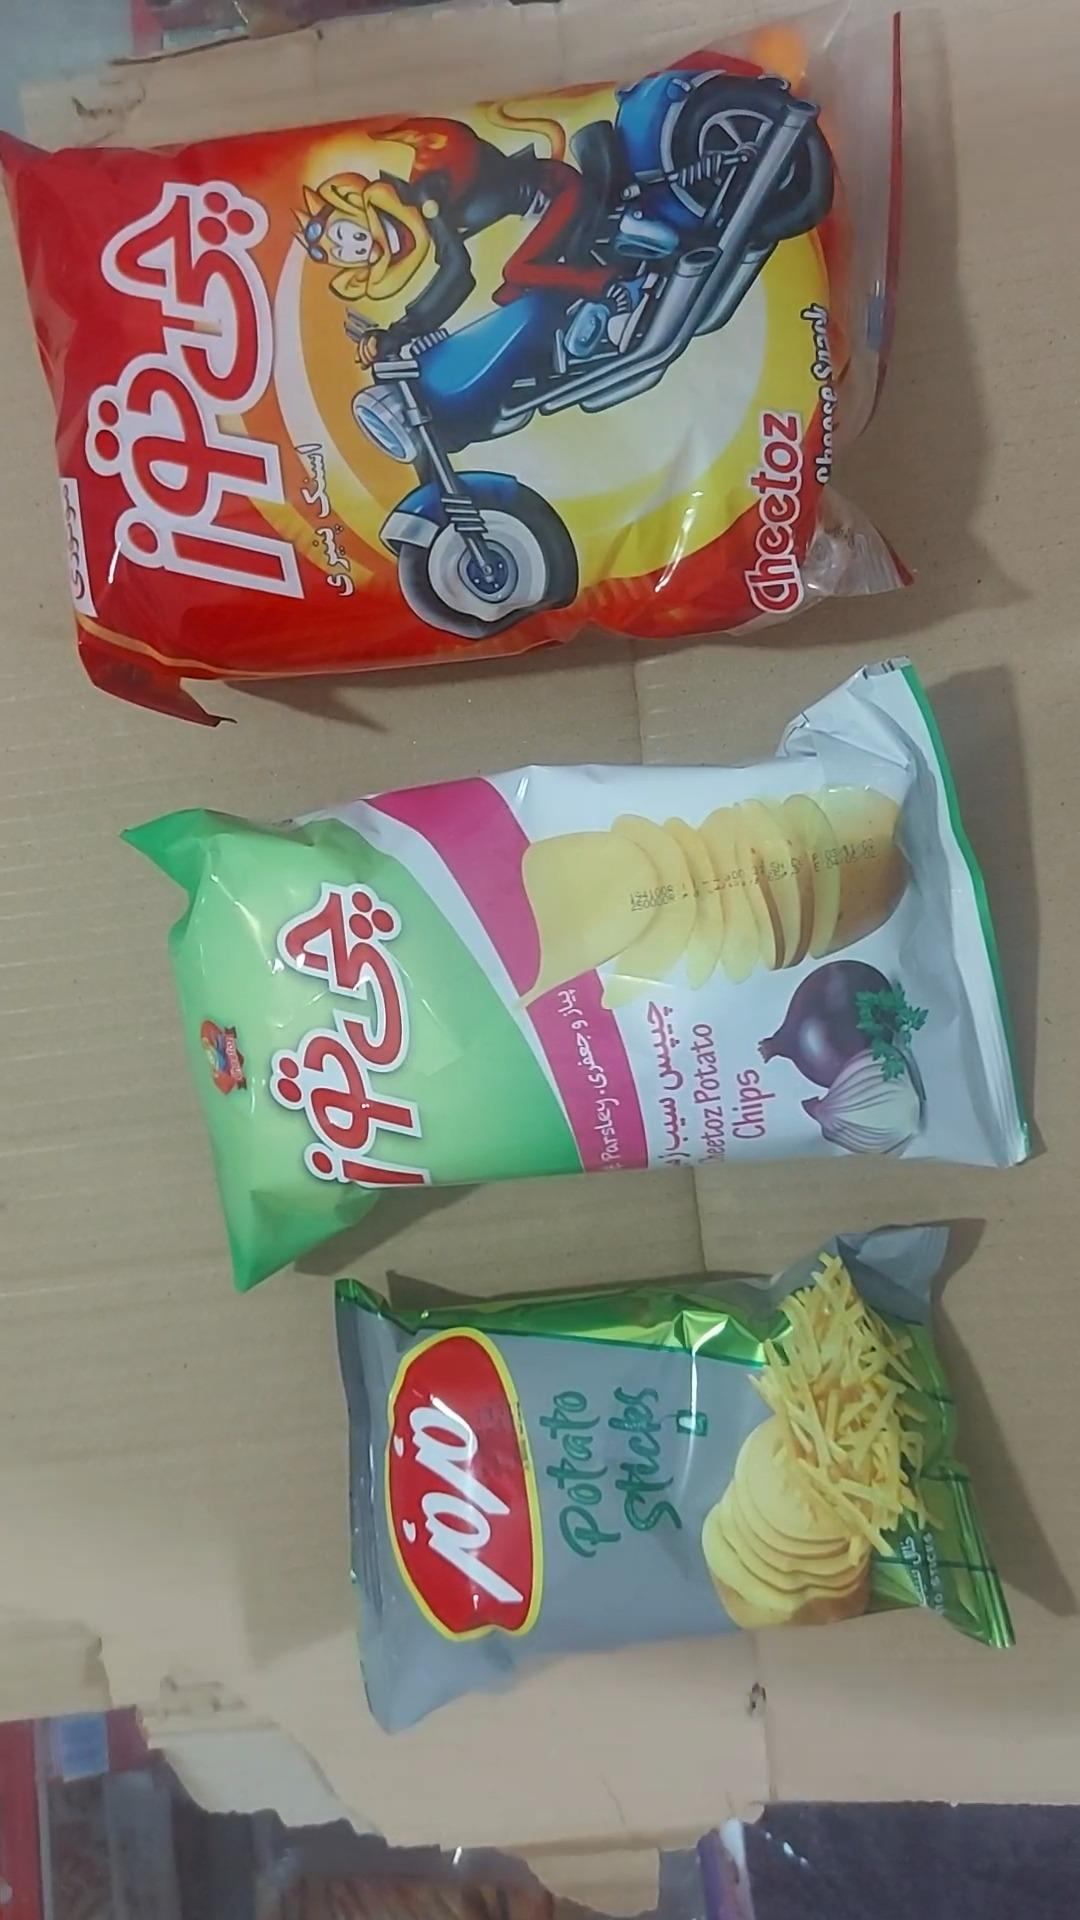Cheetoz onion and parsley chips: (120, 659, 1034, 1295)
Cheetoz snack 90g: (0, 0, 913, 728)
Maz Maz potato sticks: (334, 1218, 1015, 1735)
